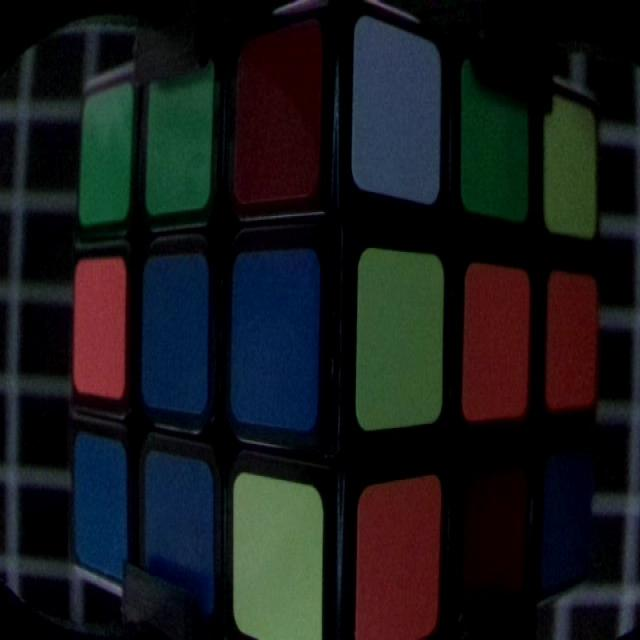b: (232, 257, 312, 412), (147, 452, 212, 604), (145, 259, 204, 409), (76, 441, 128, 572), (553, 461, 594, 576)
g: (463, 69, 527, 211), (152, 72, 207, 205), (83, 89, 129, 212)
o: (362, 488, 437, 635), (464, 265, 526, 407), (76, 259, 122, 396), (548, 277, 599, 399)
r: (241, 38, 319, 190), (462, 474, 525, 610)
y: (359, 249, 441, 428), (236, 476, 322, 640), (548, 100, 596, 235)
